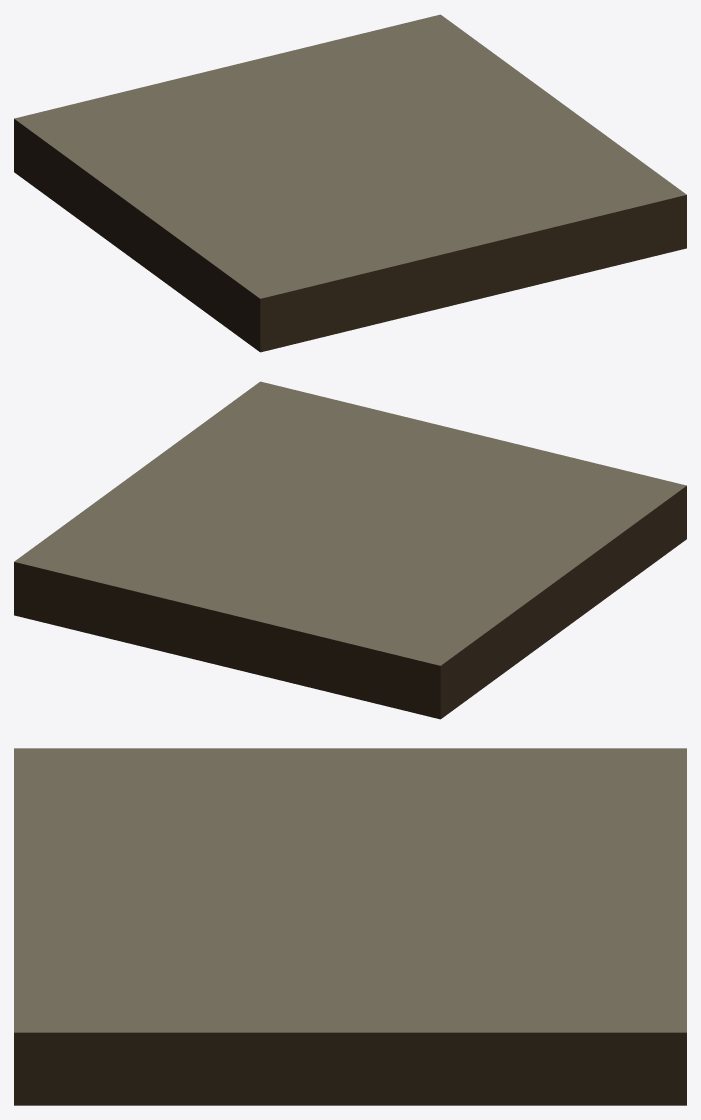
File: SecondFloor_5x5_30cmBeams_1mSpacing.fbx
3 views of the same model, one above another, from view 1: azimuth 30°, elevation 25°; view 2: azimuth 150°, elevation 25°; view 3: azimuth 270°, elevation 25° (orthographic). The views are drawn at different scales.
Visible parts, largest first — view 1: SecondFloor_5x5_30cmBeams_1mSpacing; view 2: SecondFloor_5x5_30cmBeams_1mSpacing; view 3: SecondFloor_5x5_30cmBeams_1mSpacing.
Boxes of the visible parts, x1,y1,x2,y2 form: SecondFloor_5x5_30cmBeams_1mSpacing: (14, 14, 686, 352); SecondFloor_5x5_30cmBeams_1mSpacing: (14, 381, 686, 719); SecondFloor_5x5_30cmBeams_1mSpacing: (14, 748, 686, 1105).
Size of the model in its own units: 5 by 0.6 by 5.
